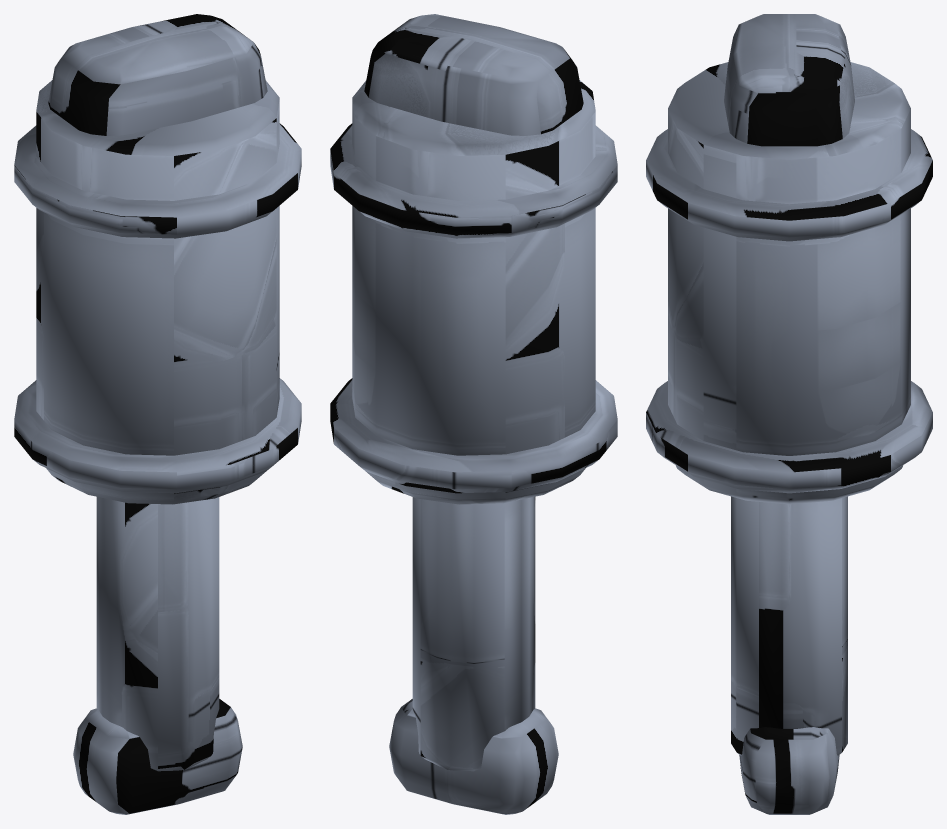
File: Remache_PistonAntebrazoDer.fbx
3 views of the same model, side by side, from view 1: azimuth 30°, elevation 25°; view 2: azimuth 150°, elevation 25°; view 3: azimuth 270°, elevation 25° (orthographic).
Visible parts, largest first — view 1: Remache_PistonAntebrazoDer; view 2: Remache_PistonAntebrazoDer; view 3: Remache_PistonAntebrazoDer.
Boxes of the visible parts, x1,y1,x2,y2 form: Remache_PistonAntebrazoDer: (14, 14, 301, 814); Remache_PistonAntebrazoDer: (330, 14, 617, 814); Remache_PistonAntebrazoDer: (646, 14, 932, 814).
Size of the model in its own units: 0.59 by 1.71 by 0.59.
